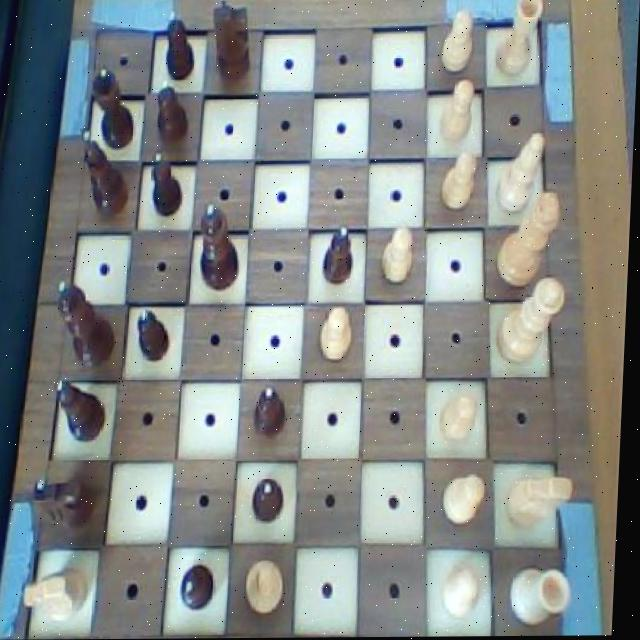bishop: (77, 128, 136, 221), (54, 378, 112, 442)
black-bishop: (53, 277, 122, 376)
black-king: (30, 468, 104, 540), (208, 0, 257, 87)
black-knight: (159, 7, 200, 82), (153, 74, 194, 146), (149, 148, 189, 221), (136, 300, 178, 364), (252, 470, 295, 529), (320, 224, 358, 289), (182, 559, 225, 615), (253, 383, 293, 439)
black-pawn: (194, 197, 247, 297)
black-queen: (88, 65, 142, 153)
black-rook: (492, 132, 549, 220), (246, 553, 296, 619)
white-bishop: (494, 189, 567, 293)
white-king: (506, 464, 582, 537), (23, 562, 97, 630)
white-knight: (438, 468, 493, 533), (441, 562, 494, 627), (435, 147, 484, 216), (432, 75, 477, 148), (314, 300, 360, 368), (378, 224, 423, 293), (437, 6, 478, 78), (439, 390, 489, 449)
white-pawn: (493, 275, 573, 370)
white-queen: (510, 560, 580, 629), (490, 0, 545, 82)
